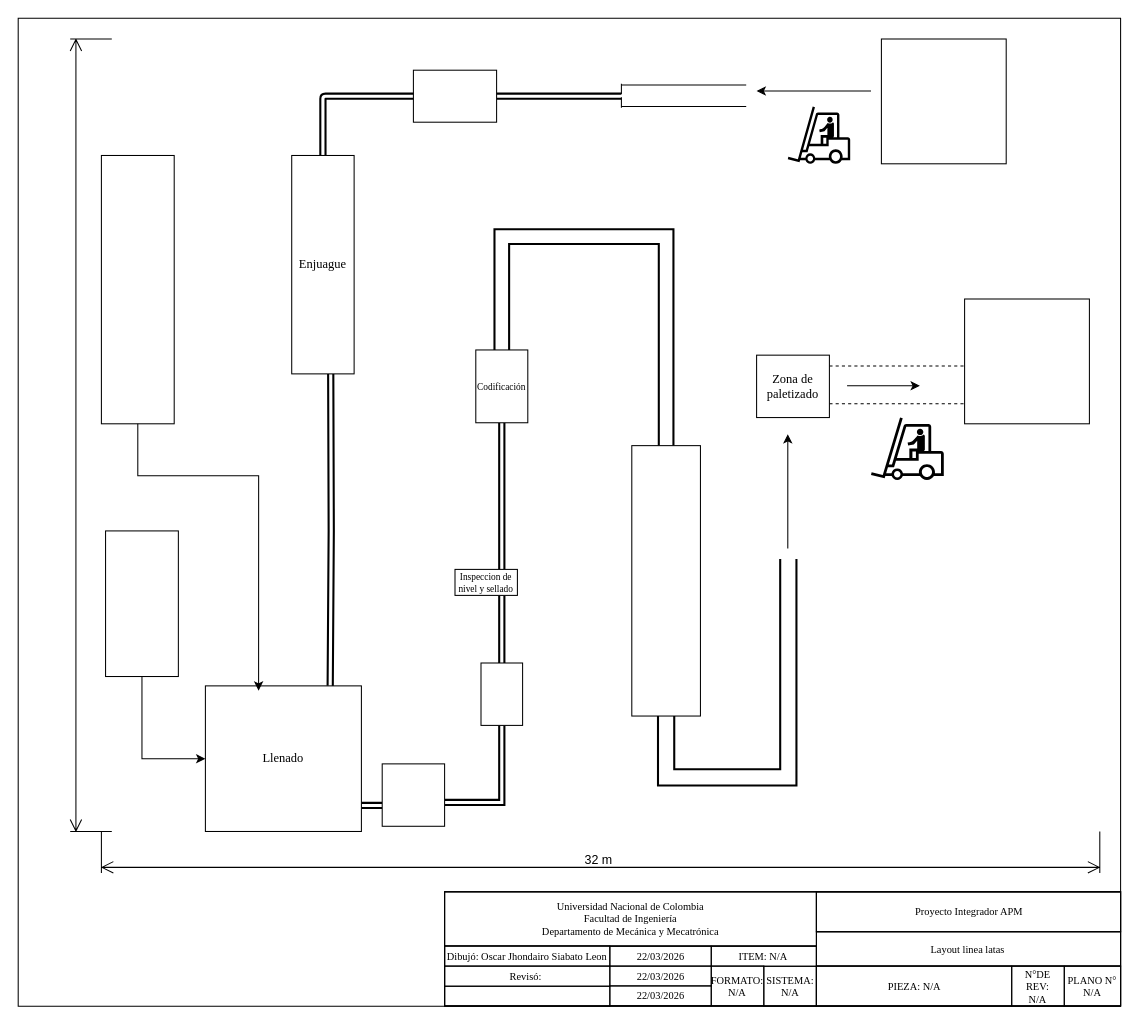
This 1140x1025 diagram has some shape labels left out. Each missing label, with the centre of its shape:
"25 m" goes at (90,434).
"Almacenamiento de latas vacías" goes at (943,101).
"Almacenamiento de pallets" goes at (1026,361).
"Aprobó:" goes at (527,995).
"Empaquetado packs" goes at (665,580).
"Inspección de material" goes at (454,95).
"Mezclador" goes at (141,603).
"Saneamiento" goes at (137,289).
"Secado" goes at (501,693).
"Tapado" goes at (413,794).
